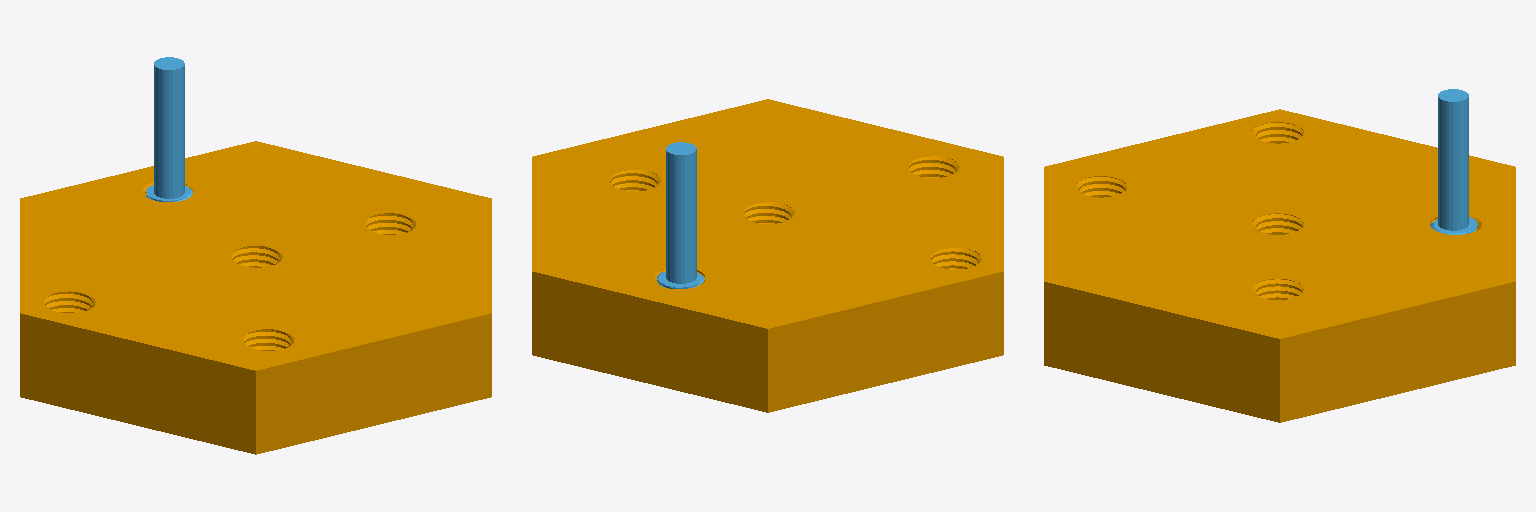
robot.urdf — Peg_insertion_5:
<?xml version='1.0' encoding='utf-8'?>
<robot name="Peg_insertion_5">
  <joint name="FixedJoint" type="fixed">
    <origin xyz="0. 0. 0." rpy="-0. 0. 0." />
    <parent link="World" />
    <child link="Base" />
  </joint>
  <link name="Base">
    <inertial><origin xyz="0.000000 0.000000 0.007500" rpy="0 0 0" /><mass value="0.1008" /><inertia ixx="5.08014e-05" ixy="0" ixz="0" iyy="6.7105e-05" iyz="0" izz="0.000114125" /></inertial><visual>
      <origin xyz="0. 0. 0." rpy="0. 0. 0." />
      <geometry>
        <mesh filename="meshes/Base_principal_Corpo1.obj" scale="1. 1. 1." />
      </geometry>
    </visual>
    <collision>
      <origin xyz="0. 0. 0." rpy="0. 0. 0." />
      <geometry>
        <mesh filename="meshes/Base_principal_Corpo1.obj" scale="1. 1. 1." />
      </geometry>
    </collision>
  </link>
  <link name="World">
    <inertial><origin xyz="0.000000 0.000000 0.019000" rpy="0 0 0" /><mass value="0.0050" /><inertia ixx="1e-06" ixy="0" ixz="0" iyy="1e-06" iyz="0" izz="1e-06" /></inertial><visual>
      <origin xyz="0.00001 0.028087 0. " rpy="-0. 0. 0." />
      <geometry>
        <mesh filename="meshes/Al__a_Corpo1.obj" scale="1. 1. 1." />
      </geometry>
    </visual>
    <collision>
      <origin xyz="0.00001 0.028087 0. " rpy="-0. 0. 0." />
      <geometry>
        <mesh filename="meshes/Al__a_Corpo1.obj" scale="1. 1. 1." />
      </geometry>
    </collision>
  </link>
</robot>

--- Facts derived from the render (not from the file) ---
Views: 3 orthographic renders of the robot side by side, from view 1: azimuth 30°, elevation 25°; view 2: azimuth 150°, elevation 25°; view 3: azimuth 270°, elevation 25°.
Robot: Peg_insertion_5 — 2 links, 1 joints (1 fixed); root link World; default pose: every joint at zero.
Links seen in each view (by area): view 1: Base, World; view 2: Base, World; view 3: Base, World.
Boxes of the visible links, x1=… form: Base: x1=20, y1=141, x2=491, y2=454; World: x1=146, y1=57, x2=192, y2=201; Base: x1=532, y1=99, x2=1003, y2=412; World: x1=657, y1=142, x2=704, y2=288; Base: x1=1044, y1=109, x2=1515, y2=422; World: x1=1430, y1=89, x2=1477, y2=234.
Bounding box of the posed robot: 0.0881 × 0.0763 × 0.038 m (x, y, z).
2 mesh visuals loaded from 2 distinct referenced files (2 OBJ).
